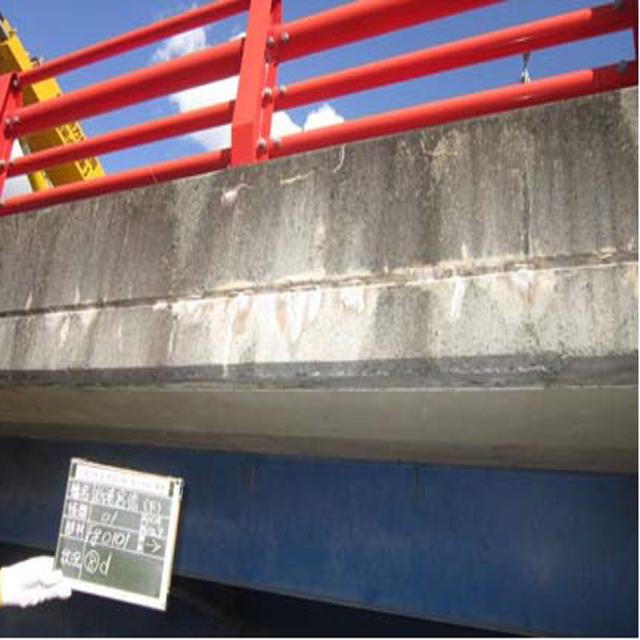freelime: (181, 258, 550, 358)
